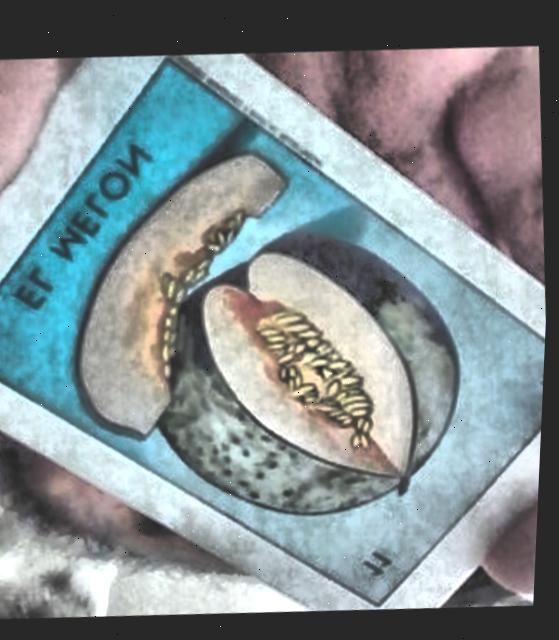El Melon: (0, 58, 548, 602)
